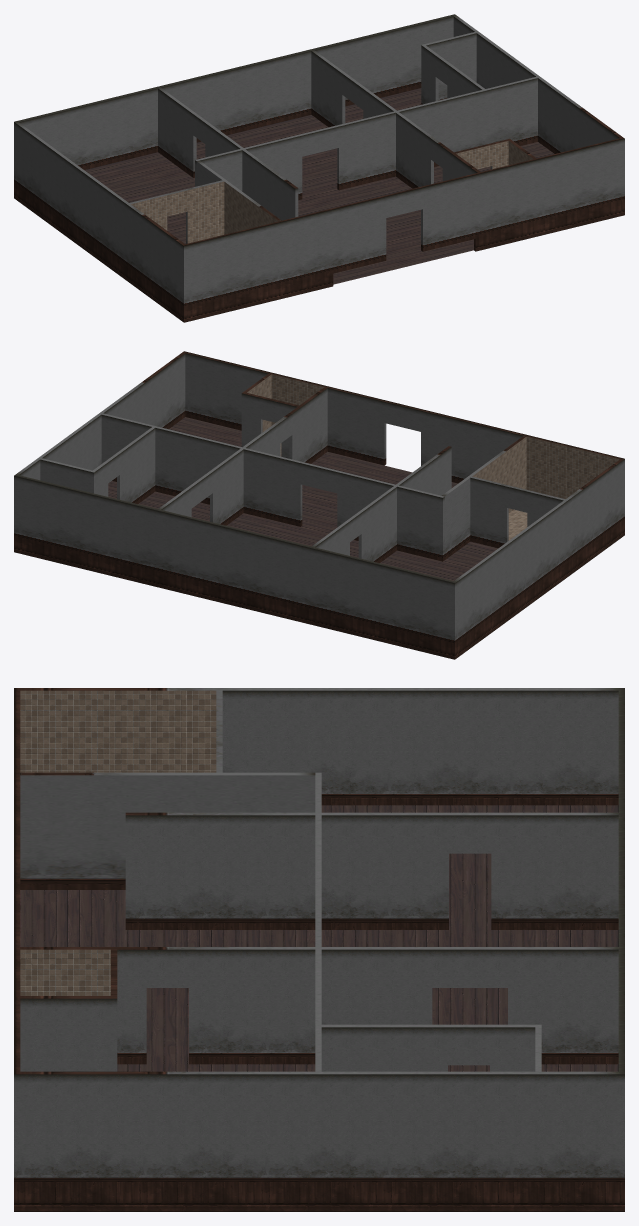
File: house.fbx
3 views of the same model, one above another, from view 1: azimuth 30°, elevation 25°; view 2: azimuth 150°, elevation 25°; view 3: azimuth 270°, elevation 25° (orthographic). The views are drawn at different scales.
Visible parts, largest first — view 1: house.001; view 2: house.001; view 3: house.001.
Boxes of the visible parts, x1=… form: house.001: x1=14, y1=14, x2=624, y2=322; house.001: x1=14, y1=351, x2=624, y2=659; house.001: x1=14, y1=688, x2=624, y2=1211.
Bounding box in the file's own units: 24.05 × 3.99 × 16.07.
3 materials, 3 textured.
